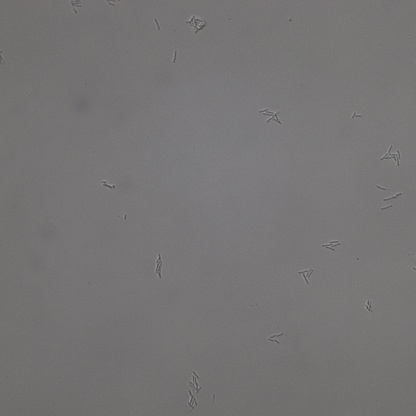R(colony): (380, 144, 403, 165), (259, 106, 282, 125), (189, 370, 202, 393), (297, 267, 313, 284), (322, 238, 340, 251), (186, 394, 198, 413)
